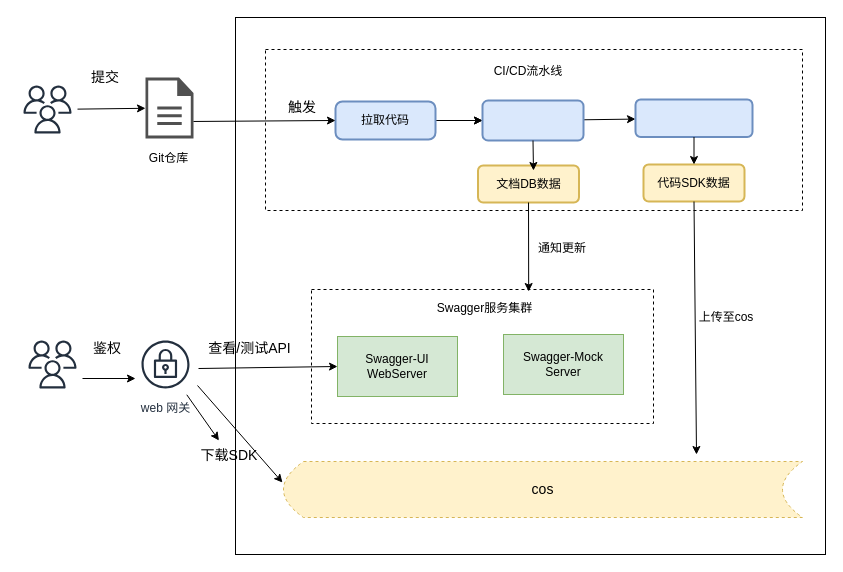
Image size: 843x572. Some labels were removed from this diagram. The shapes that lost their labels are listed below. From the top down, each one's centre as x and y in pixels, then its label:
At point 47,109: "API开发者".
At point 532,120: "Swagger-Parser".
At point 693,118: "Swagger-Codegen".
At point 52,364: "API接入方".
